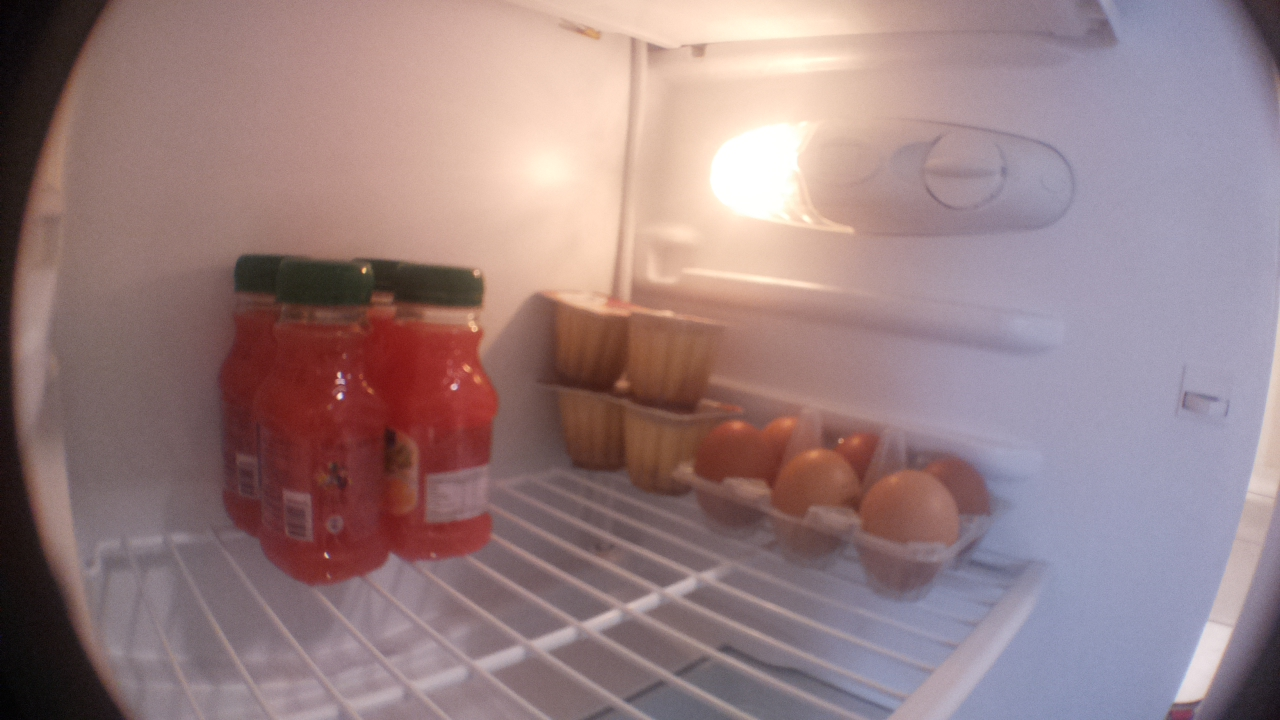caramel: (633, 298, 730, 412), (535, 279, 630, 394), (625, 390, 699, 508), (540, 375, 626, 475)
egg: (868, 448, 960, 600), (765, 447, 869, 567), (916, 443, 1001, 574), (700, 414, 777, 540), (830, 421, 903, 483), (763, 408, 825, 466)
juice: (256, 258, 394, 593), (388, 260, 503, 574), (218, 247, 282, 537)
